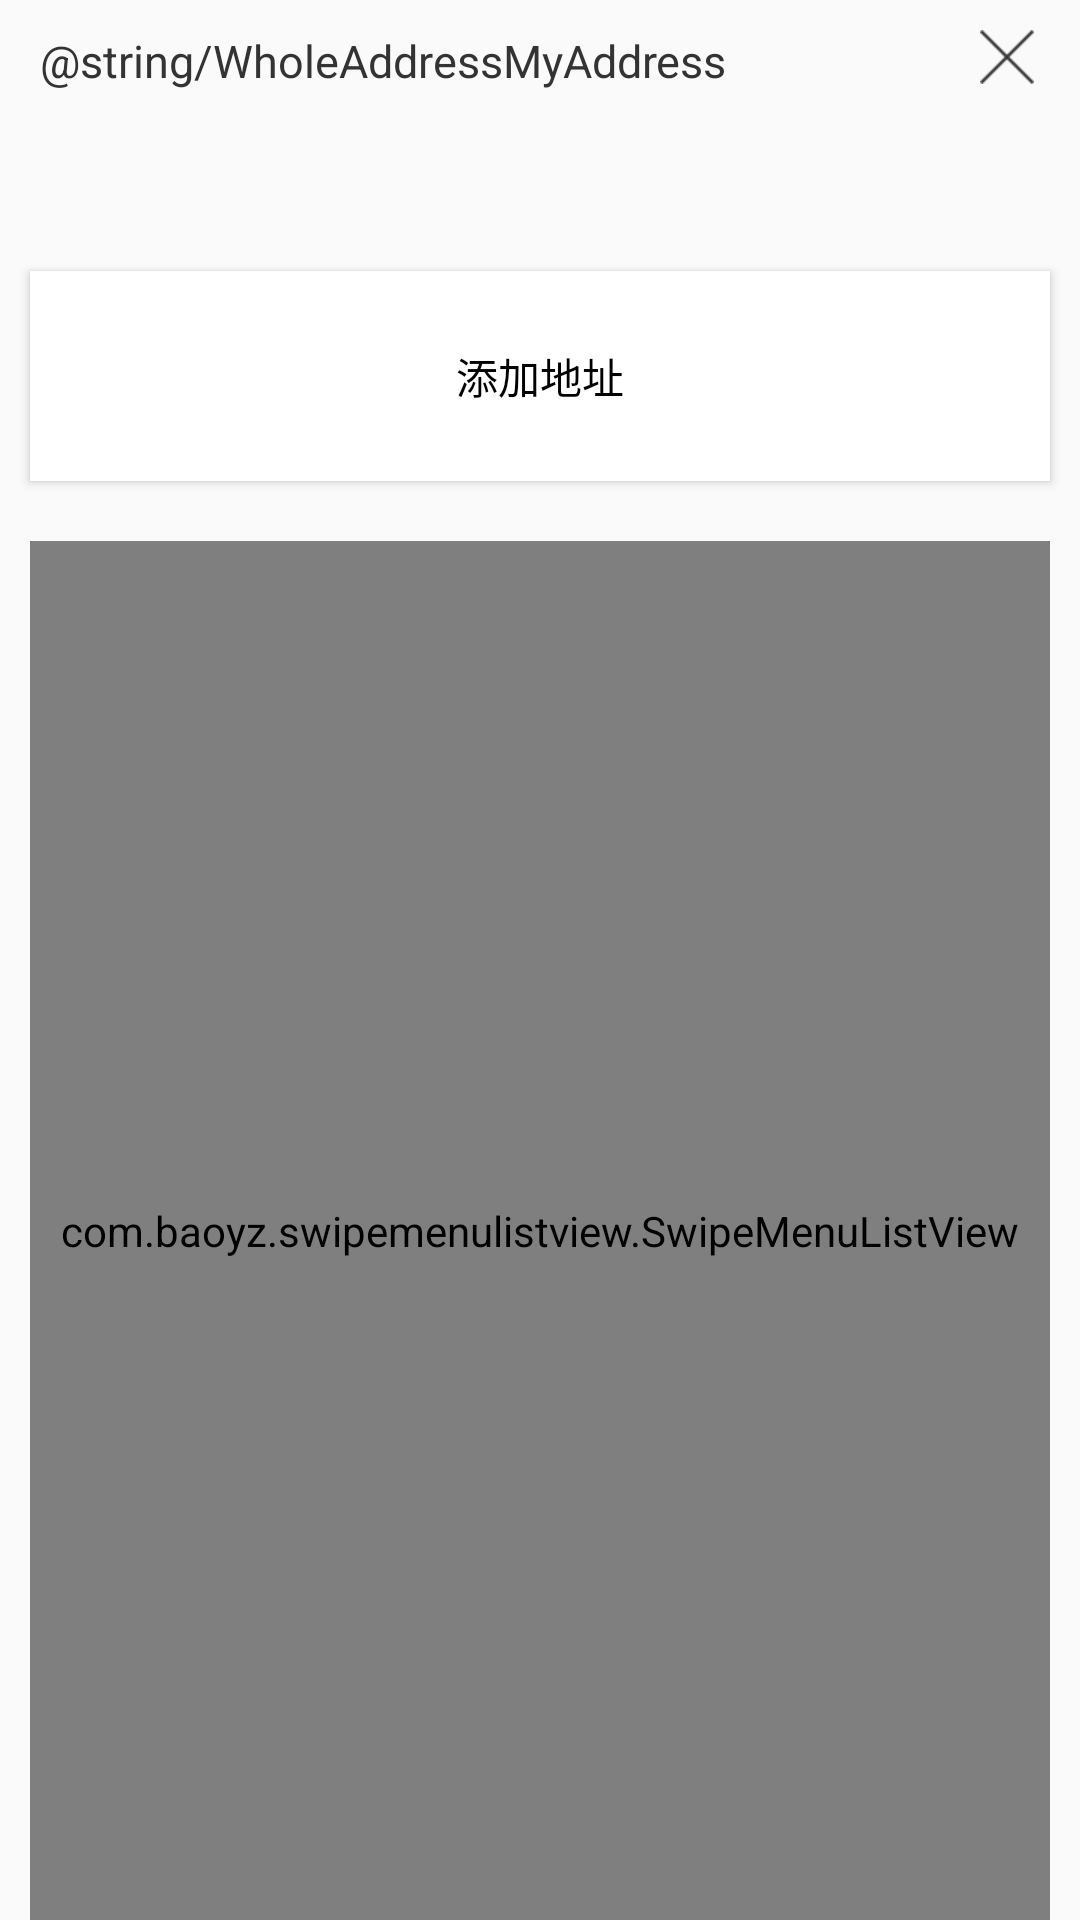

Icons on this 1080px×1920px Android screen, each with the point to tap as (x,y):
close: (1007,57)
